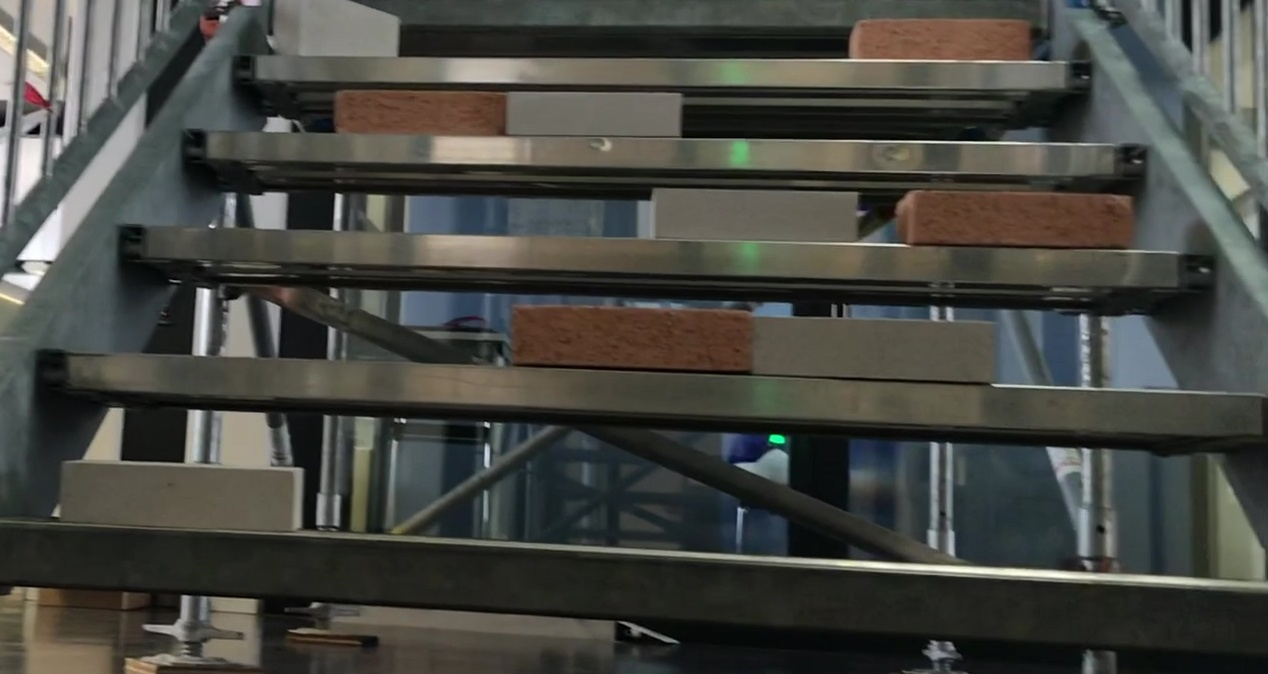brick: (514, 304, 752, 374), (62, 461, 302, 530), (754, 318, 993, 382), (896, 189, 1132, 245), (650, 188, 856, 242), (337, 89, 506, 135), (509, 92, 678, 137), (850, 20, 1026, 61), (277, 1, 399, 59)
edge: (4, 519, 1268, 651), (44, 351, 1265, 434), (121, 220, 1214, 288), (187, 130, 1148, 174), (232, 56, 1091, 89)
